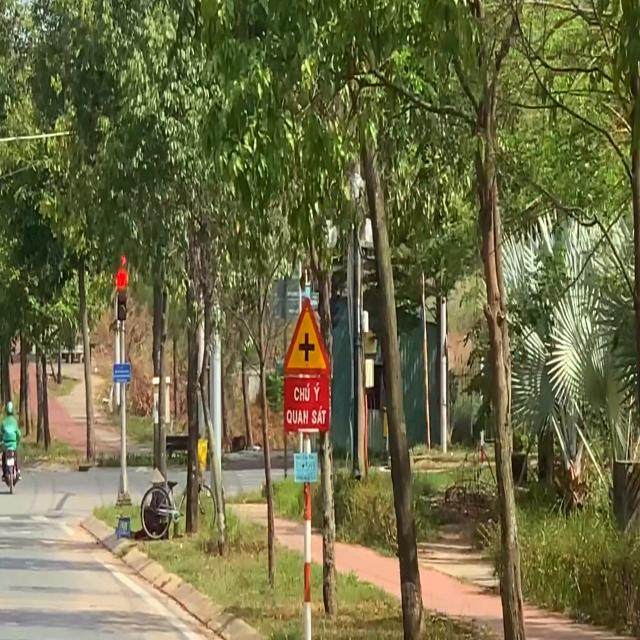Duong giao nhau: (282, 290, 336, 376)
